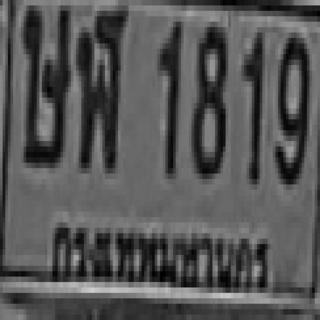A39: (20, 0, 68, 162)
A42: (76, 0, 125, 168)
N01: (158, 16, 181, 174), (241, 27, 262, 179)
N08: (189, 22, 226, 174)
N09: (273, 32, 307, 179)
P04: (46, 209, 276, 303)
